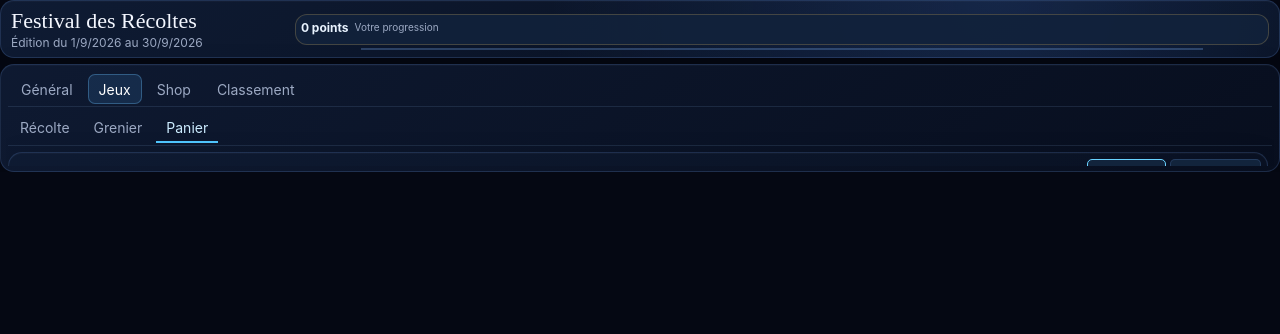
Scenario: EventScreen presentation › consumes the daily destination once: {"section":"games","game":2}
Expected: the button "Jeux" is shown, left=88, top=74, right=142, bottom=104
Expected: the button "Panier" is shown, left=156, top=113, right=218, bottom=143
Click the button "Général" at (47, 89), box left=10, top=74, right=84, bottom=104
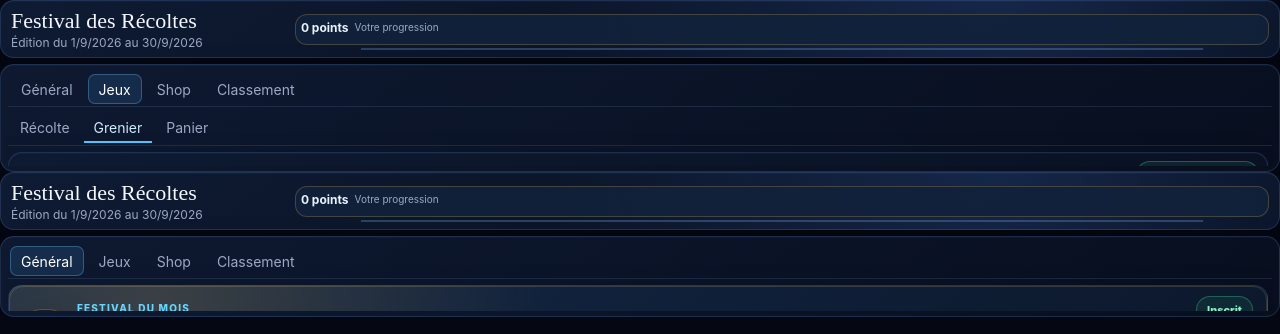
Expected: the button "Grenier" is shown, left=84, top=113, right=152, bottom=143
Now the 2nd button "Général" is shown, box left=10, top=246, right=84, bottom=276
